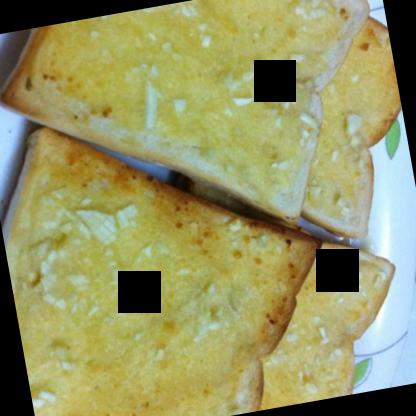toast bread: (0, 83, 338, 415), (0, 0, 390, 254), (261, 1, 415, 250), (215, 229, 414, 412)
